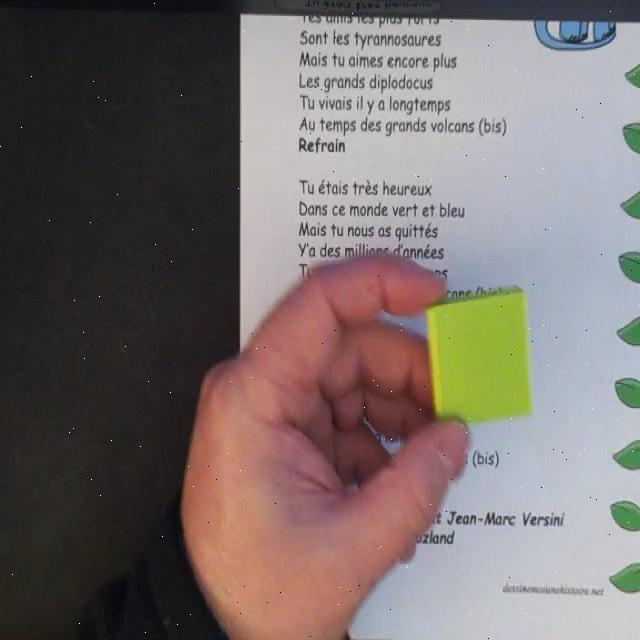square: (428, 286, 533, 428)
